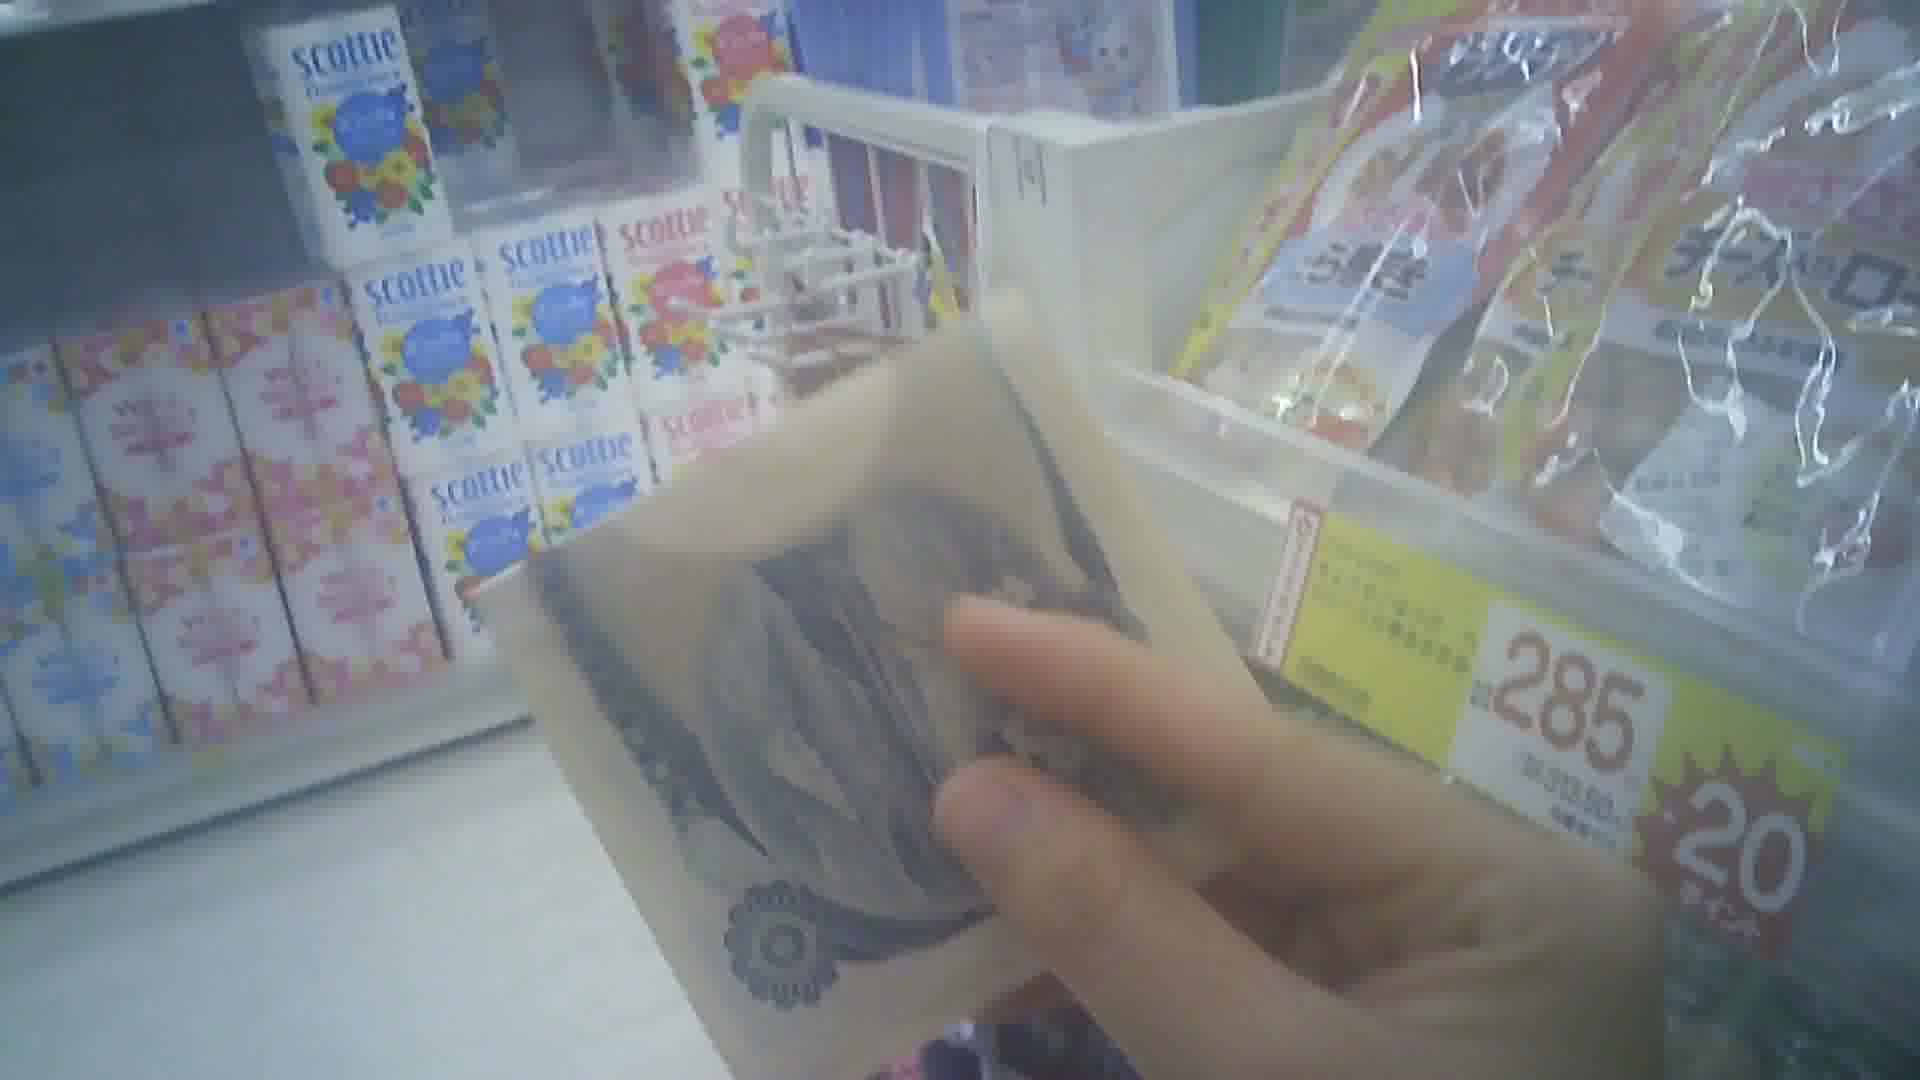1,000 Yen: (480, 309, 1238, 1033)
